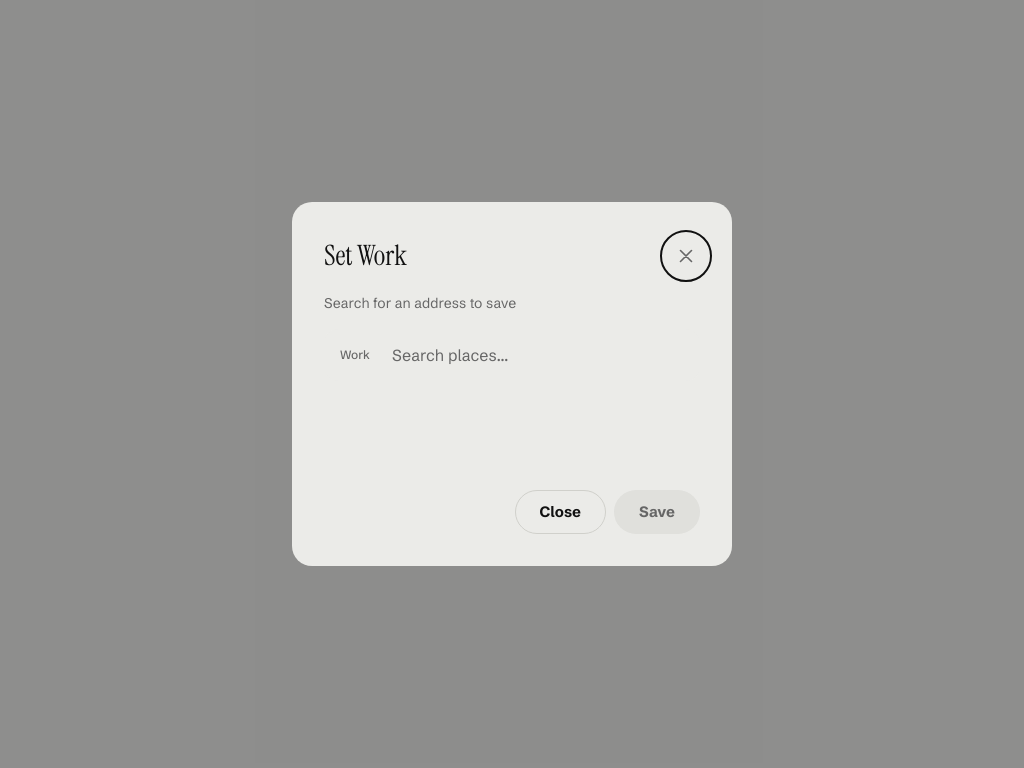
Test: SetPlaceDialog › searches, picks and saves the place under the chosen name
Later steps or results of the test are not shown.
Expected: the dialog "Set Work" is shown, [292,202,732,566]
Expected: the button "Save" is disabled, [614,490,700,534]
In the dropdown: (544, 355) [392,329,696,381], type "par"
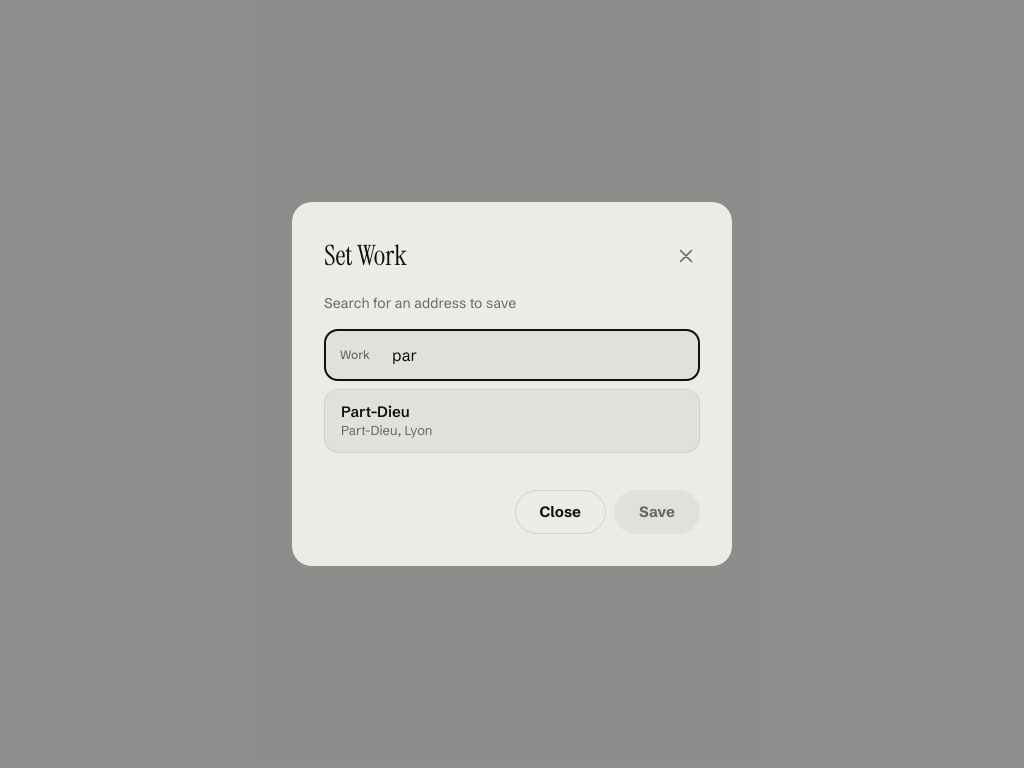
Click the option "Part-Dieu Part-Dieu, Lyon": (387, 420) [341,402,432,438]
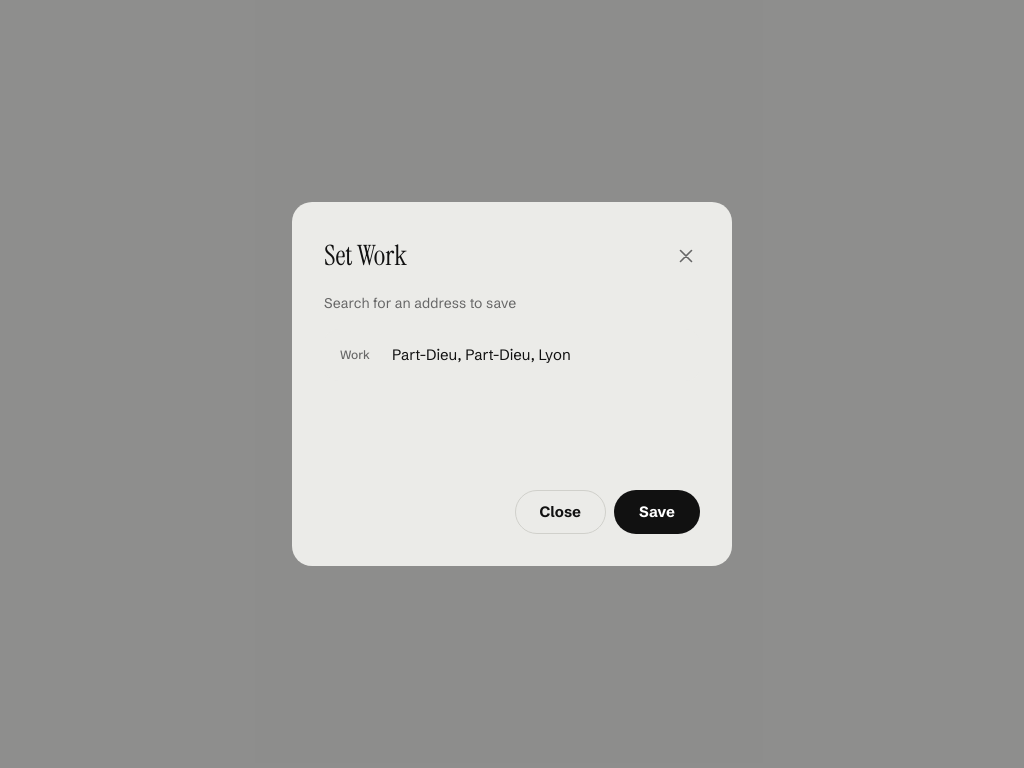
Expected: the button "Save" is enabled, [614,490,700,534]
